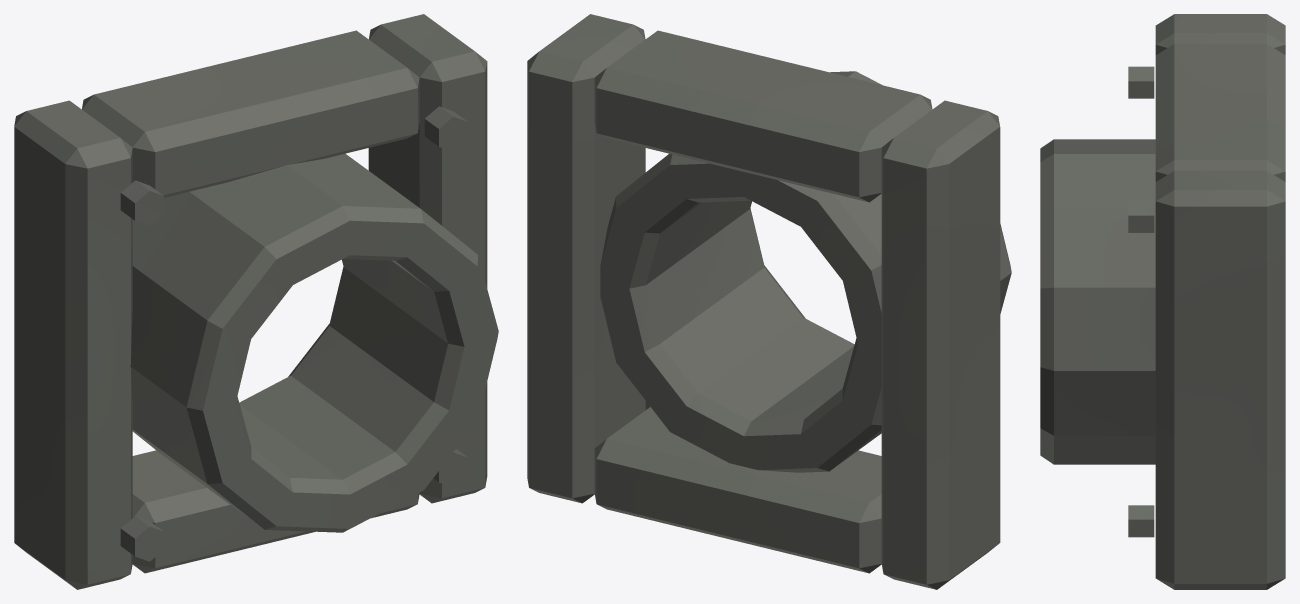
Rendered from WarrensC_CCS31_WallFairlead_Mars_SM.fbx.
The picture shows the model from 3 angles, left to right: view 1: azimuth 30°, elevation 25°; view 2: azimuth 150°, elevation 25°; view 3: azimuth 270°, elevation 25°; orthographic projection. The views are drawn at different scales.
Parts seen in each view (by area): view 1: WarrensC_CCS31_WallFairlead_Mars_SM.001; view 2: WarrensC_CCS31_WallFairlead_Mars_SM.001; view 3: WarrensC_CCS31_WallFairlead_Mars_SM.001.
Boxes of the visible parts, x1,y1,x2,y2 form: WarrensC_CCS31_WallFairlead_Mars_SM.001: (14,14,498,589); WarrensC_CCS31_WallFairlead_Mars_SM.001: (527,14,1011,589); WarrensC_CCS31_WallFairlead_Mars_SM.001: (1040,14,1285,589).
Bounding box in the file's own units: 45 × 25 × 45.
